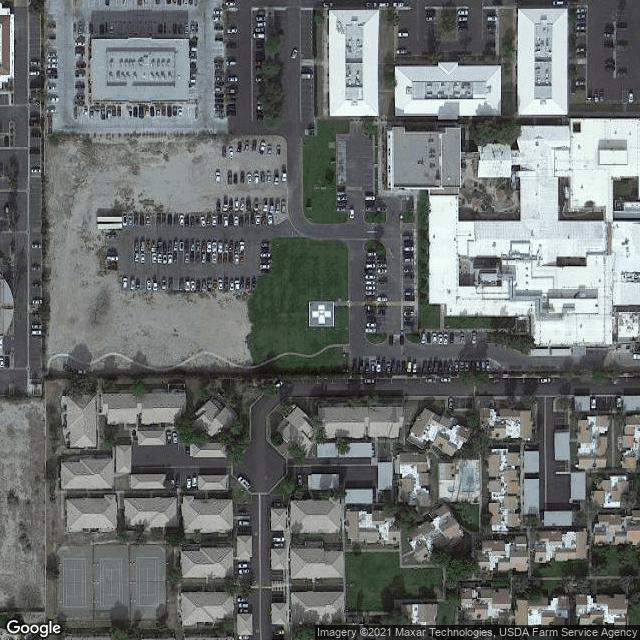Helipad: (308, 298, 334, 327)
